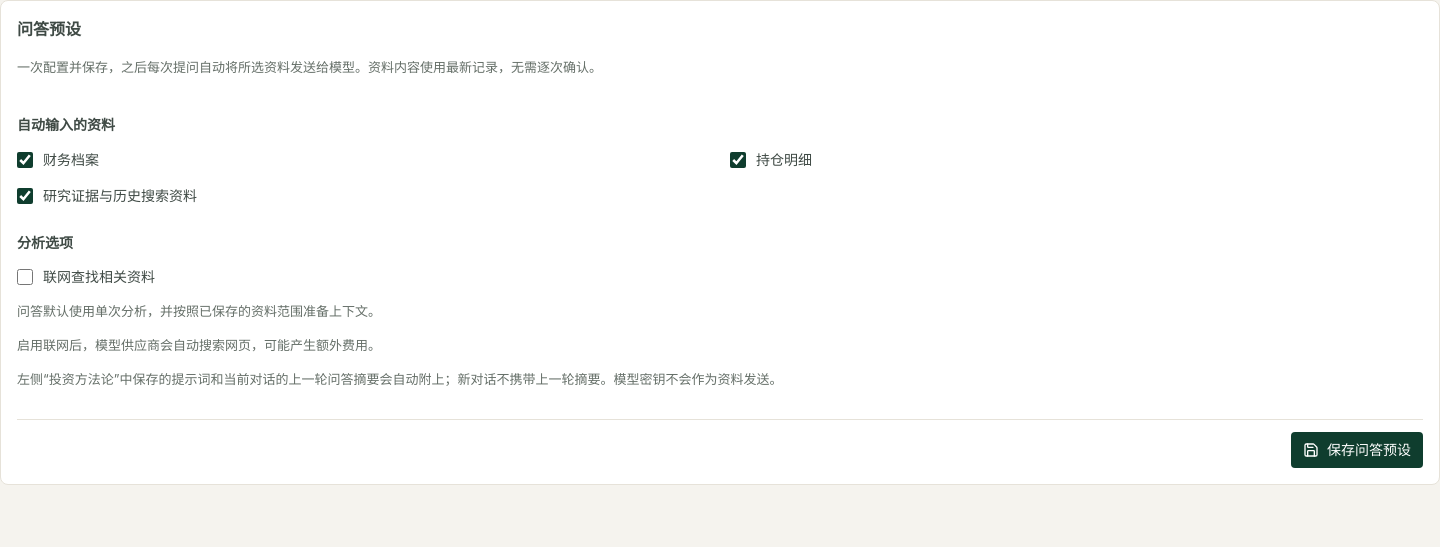
Scenario: preserves edited selections when saving fails
This screenshot has width=1440, height=547.
Step 1. Click the checkbox labelled "财务档案" → click(25, 160), box [17,152,33,168]
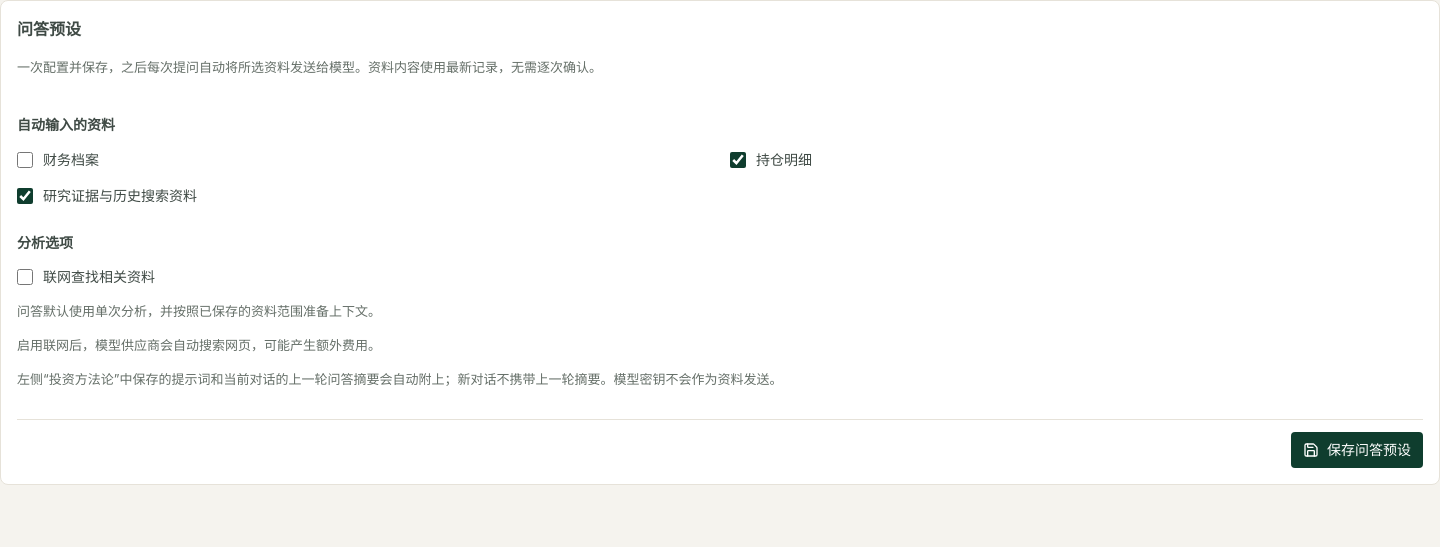
Step 2. Click the button "保存问答预设" → click(1357, 450), box [1291,432,1423,468]
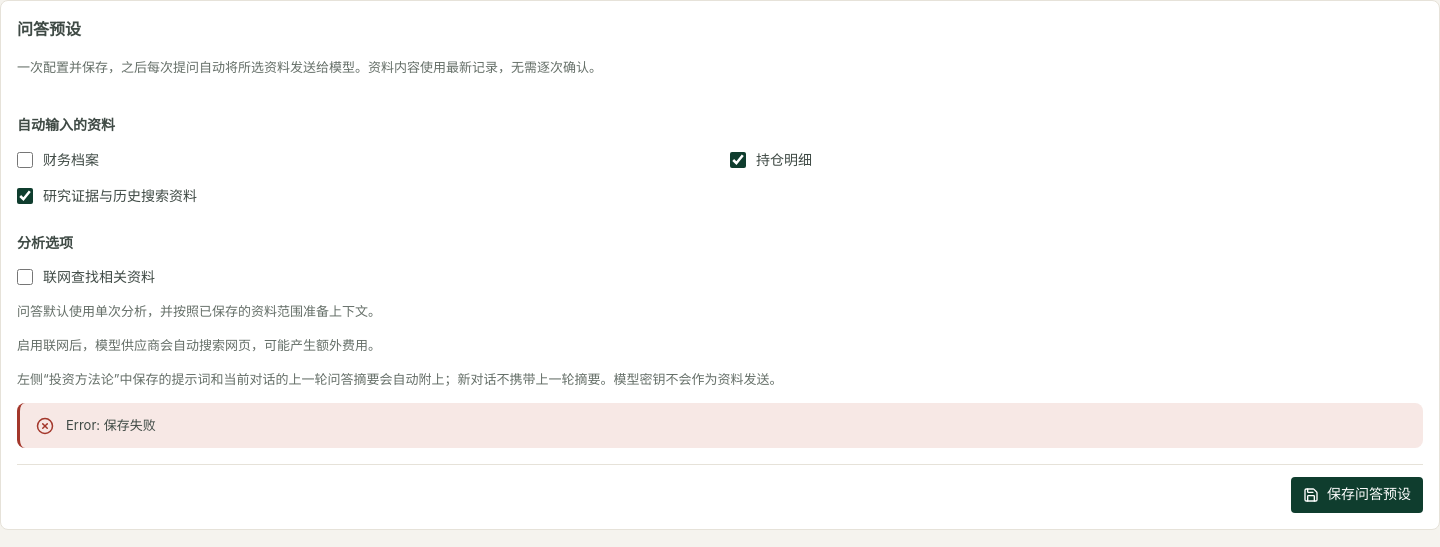
expect the checkbox labelled "财务档案" is not checked: met, box [17,152,33,168]
expect the message shows "保存失败": met, box [66,417,156,433]
